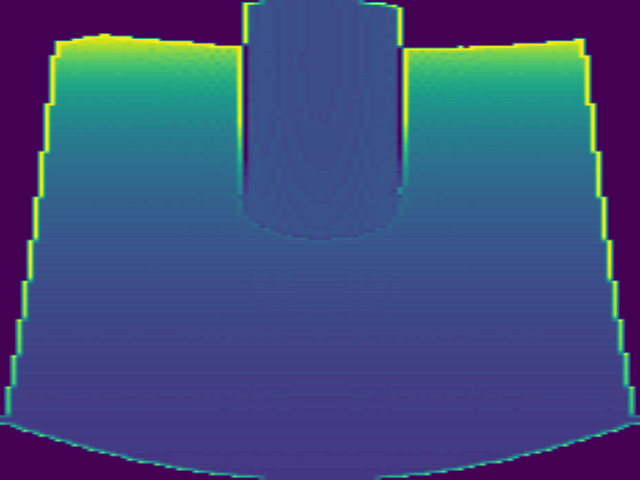cylinder: (239, 1, 404, 242)
